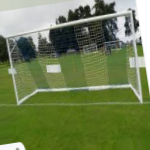goals: (4, 9, 145, 107)
